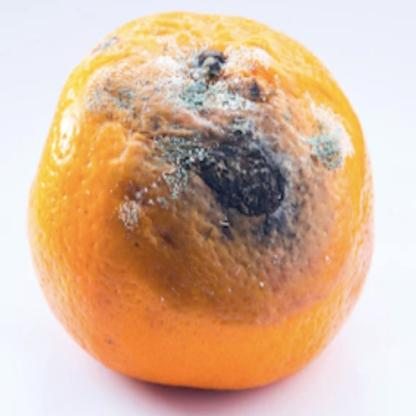rotten: (27, 12, 374, 396)
